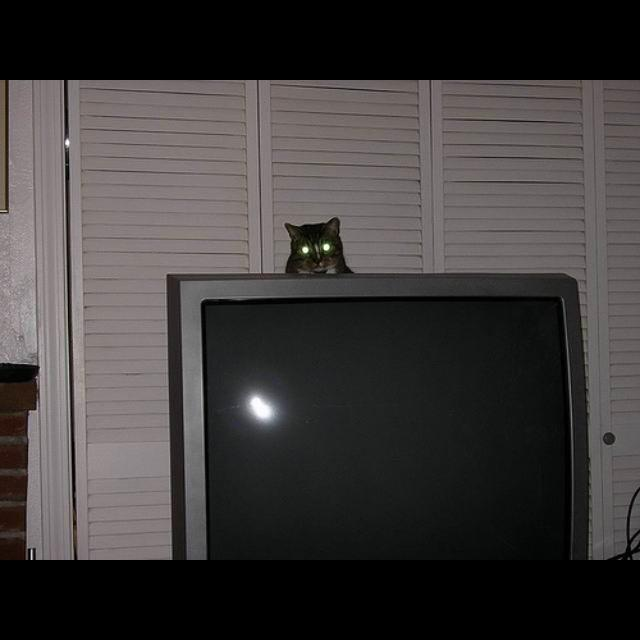Flat-Panel-TV: (166, 273, 593, 558)
